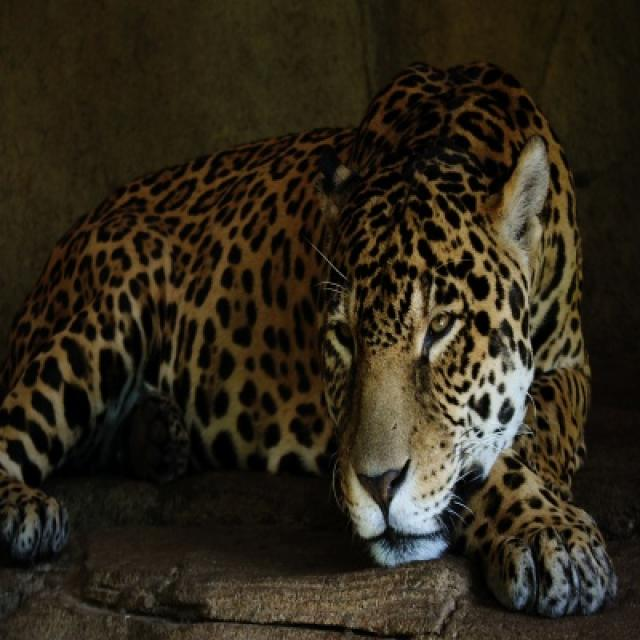Jaguar: (0, 67, 560, 568)
